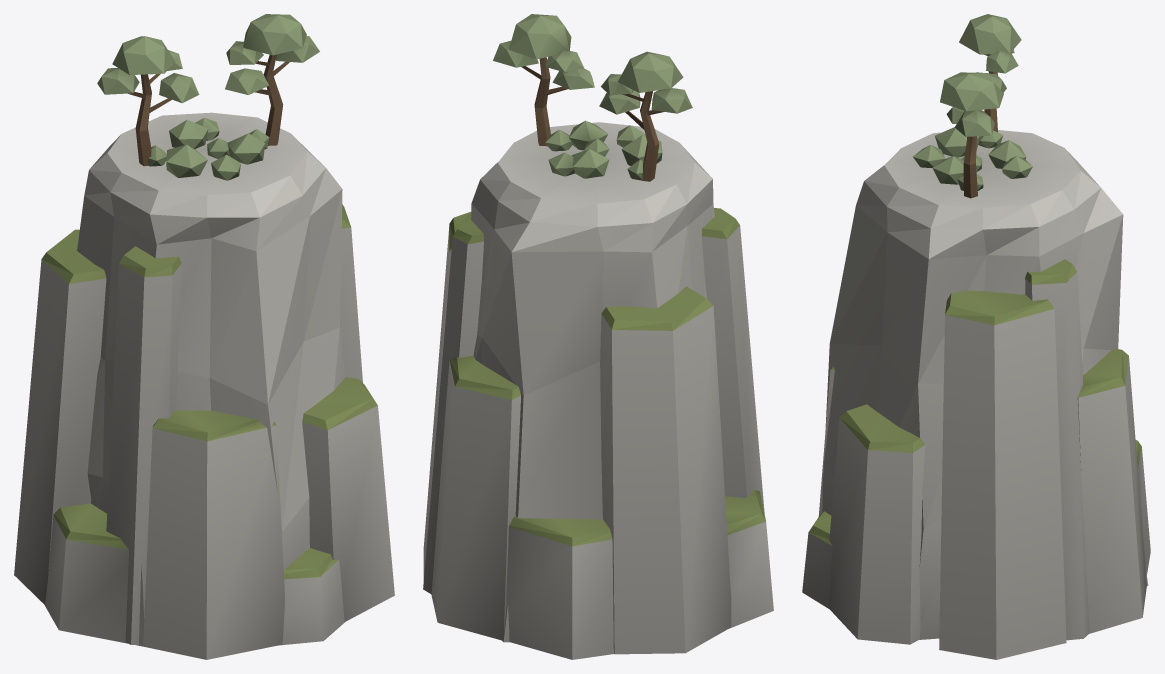
Rendered from karst.glb.
The picture shows the model from 3 angles, left to right: view 1: azimuth 30°, elevation 25°; view 2: azimuth 150°, elevation 25°; view 3: azimuth 270°, elevation 25°; orthographic projection. The views are drawn at different scales.
Parts seen in each view (by area): view 1: karst; view 2: karst; view 3: karst.
Boxes of the visible parts, left/top/right/bottom form: karst: left=14, top=14, right=394, bottom=659; karst: left=423, top=14, right=773, bottom=659; karst: left=802, top=14, right=1150, bottom=659.
Size of the model in its own units: 24.5 by 39.05 by 22.95.
